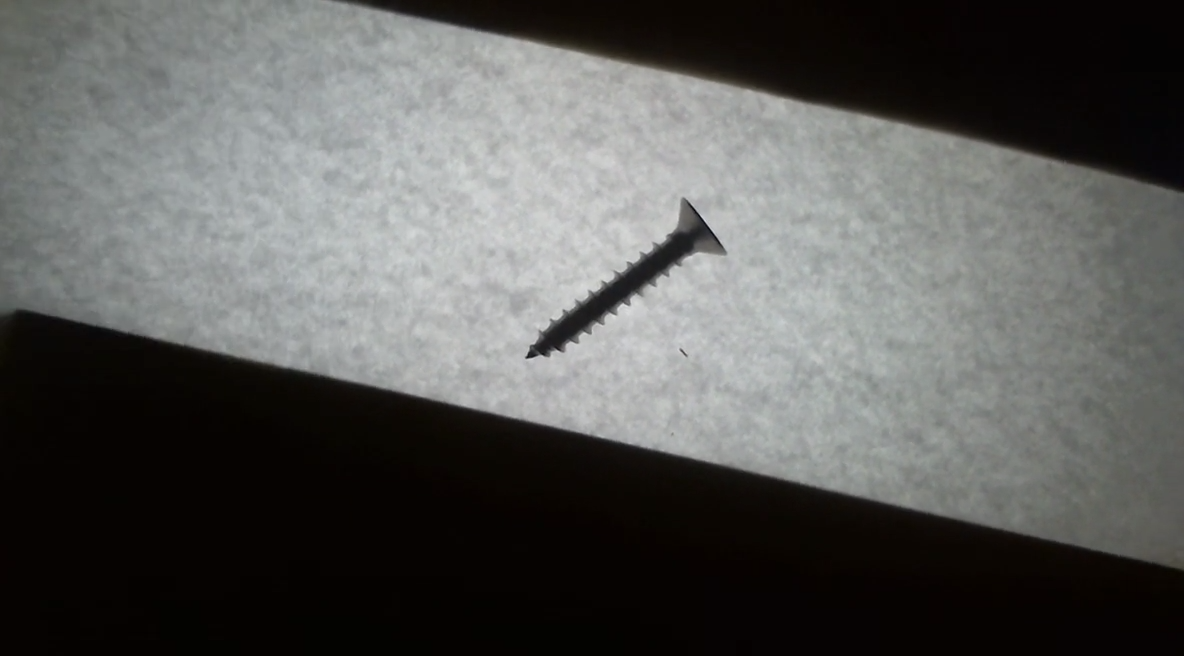S001: (494, 177, 756, 385)
